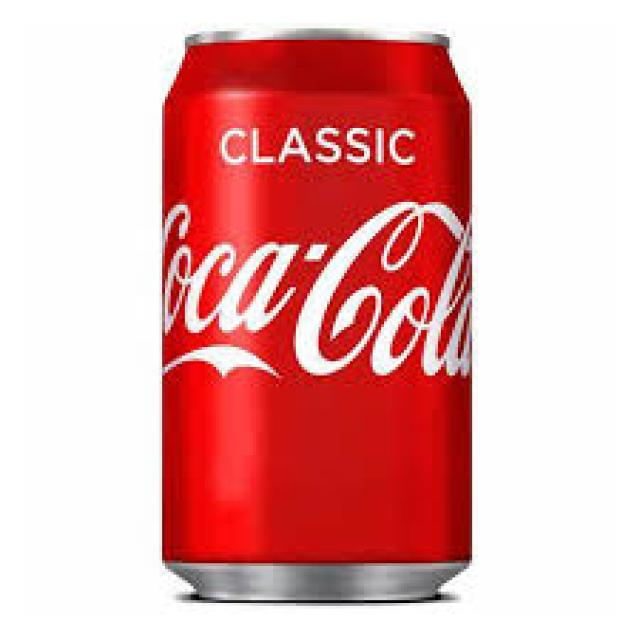aluminum_can: (165, 34, 472, 603)
